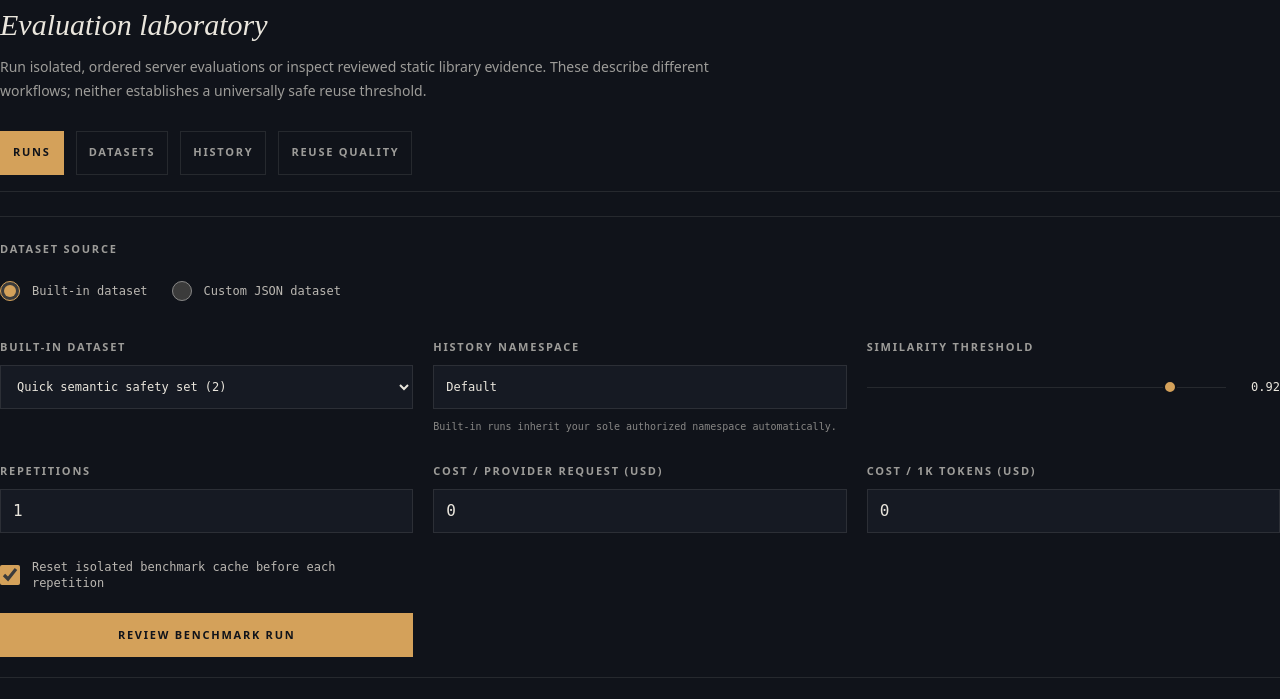
Test case: evaluation admission feedback › renders exact friendly content for run budget through the production HTTP decoder
This screenshot has width=1280, height=699.
Click the button "Review benchmark run".
click(207, 635)  # box left=0, top=613, right=413, bottom=657
(page scrolled)
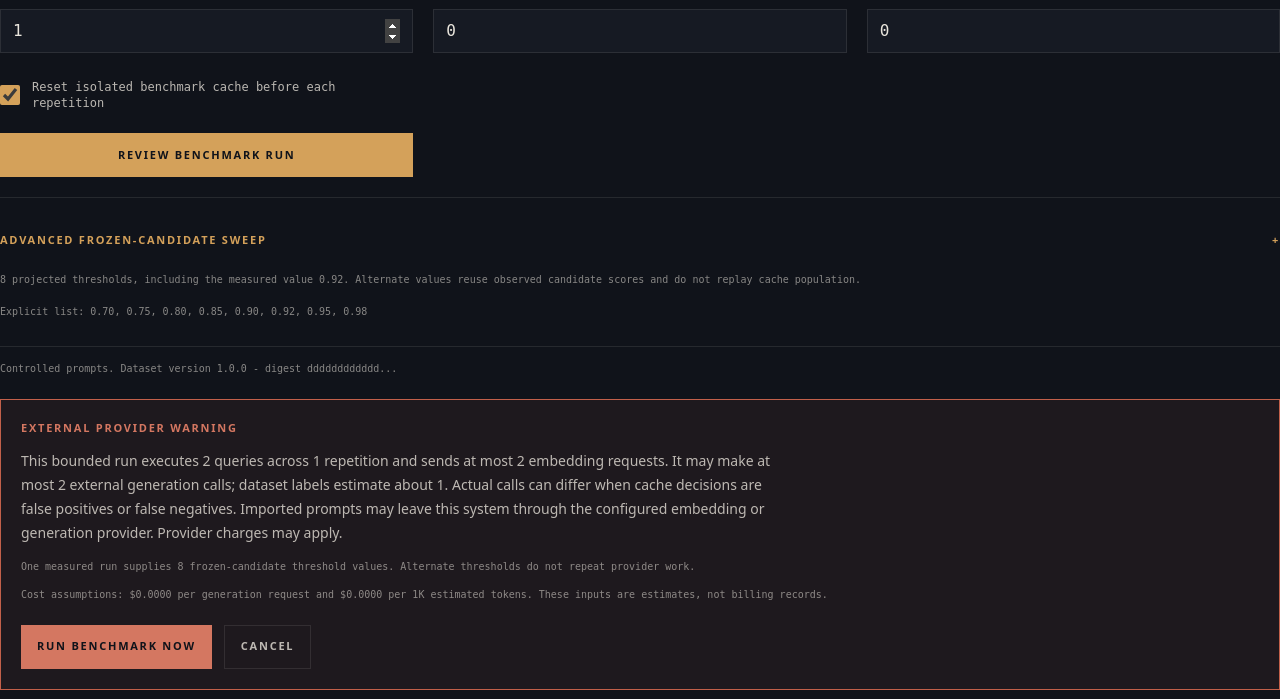
Click the button "Run benchmark now".
click(116, 646)  # box left=21, top=624, right=212, bottom=668
(page scrolled)
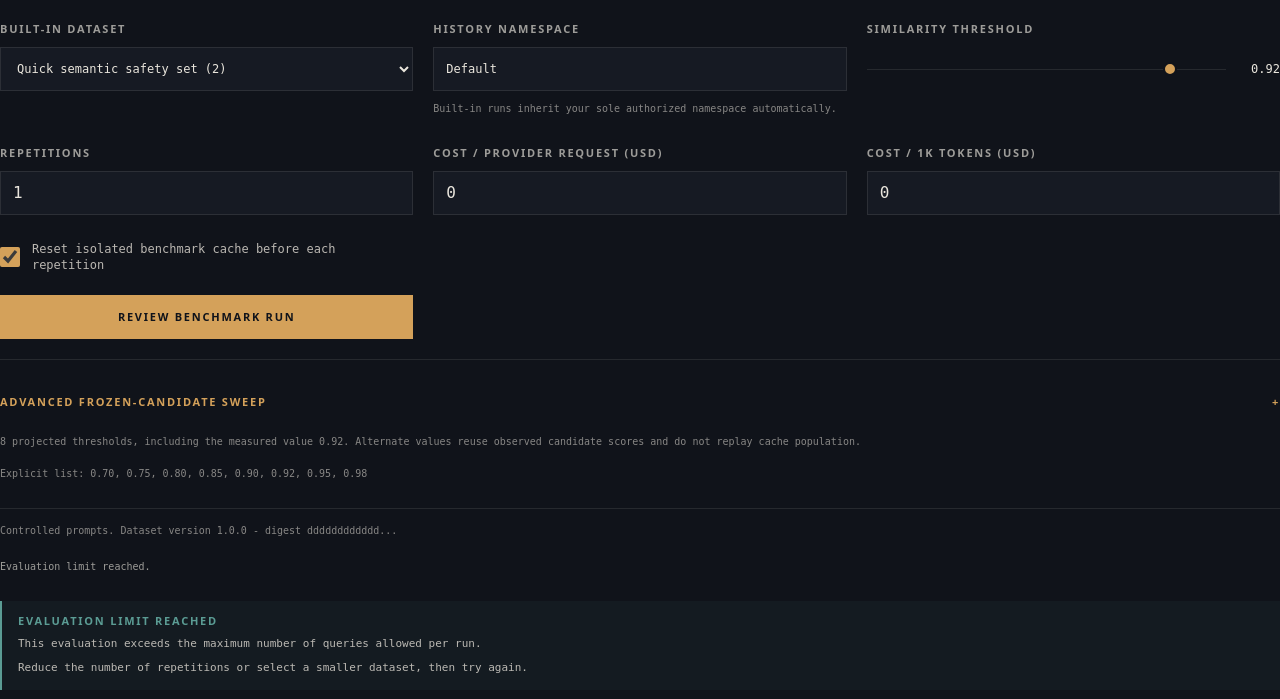
Now the text "Evaluation limit reached" is shown, box left=18, top=613, right=218, bottom=628
Now the text "This evaluation exceeds the maximum number of queries allowed per run." is shown, box left=18, top=636, right=482, bottom=650
Now the text "Reduce the number of repetitions or select a smaller dataset, then try again." is shown, box left=18, top=660, right=528, bottom=674
